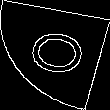O_E: (20, 28, 90, 82)
